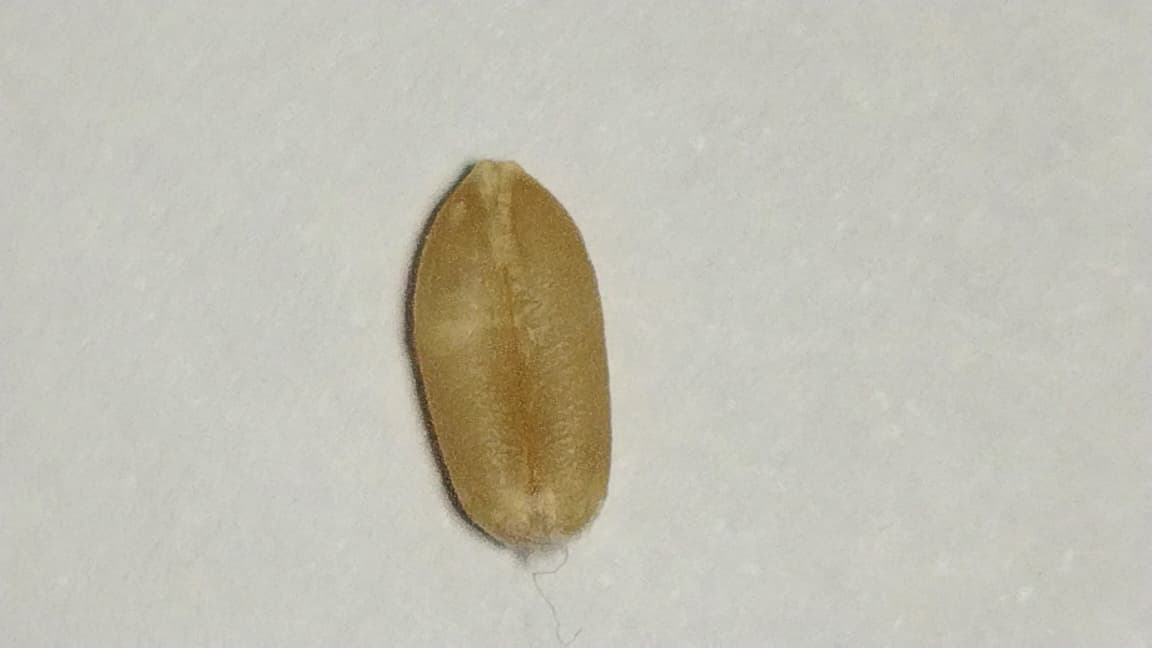healthy: (408, 161, 611, 543)
